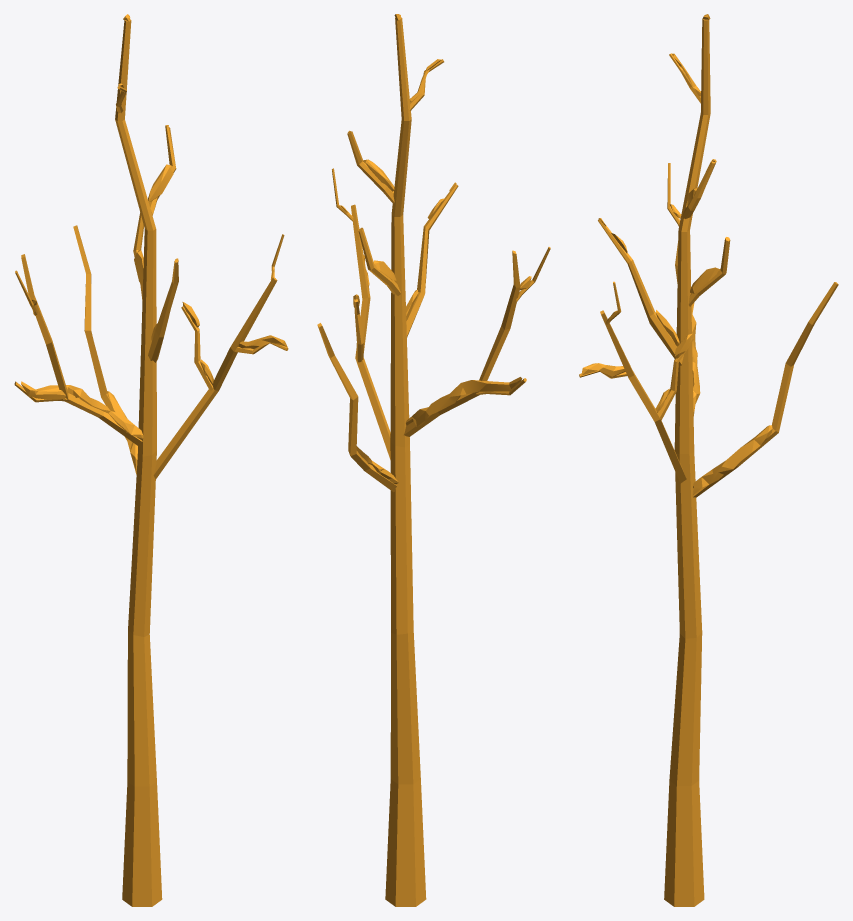
Rendered from SM_Tree_Poplar_Sapling_A_Bare_Snow.fbx.
3 views of the same model, side by side, from view 1: azimuth 30°, elevation 25°; view 2: azimuth 150°, elevation 25°; view 3: azimuth 270°, elevation 25° (orthographic). The views are drawn at different scales.
Visible parts, largest first — view 1: tree-poplar-sapling-a-bare-snow; view 2: tree-poplar-sapling-a-bare-snow; view 3: tree-poplar-sapling-a-bare-snow.
Boxes of the visible parts, box(x1,y1,x2,y2) form: tree-poplar-sapling-a-bare-snow: box(14, 14, 288, 906); tree-poplar-sapling-a-bare-snow: box(317, 14, 550, 906); tree-poplar-sapling-a-bare-snow: box(579, 14, 838, 906).
Size of the model in its own units: 0.6522 by 2.26 by 0.6028.
